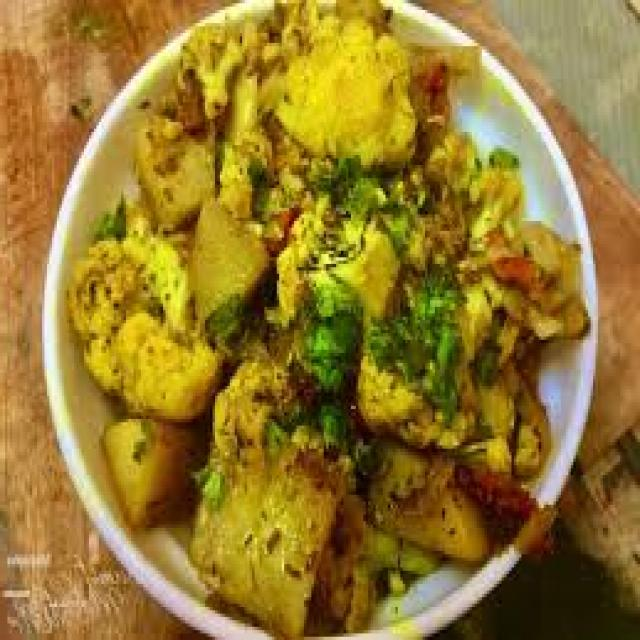Aloo Gobi: (325, 166, 561, 560)
